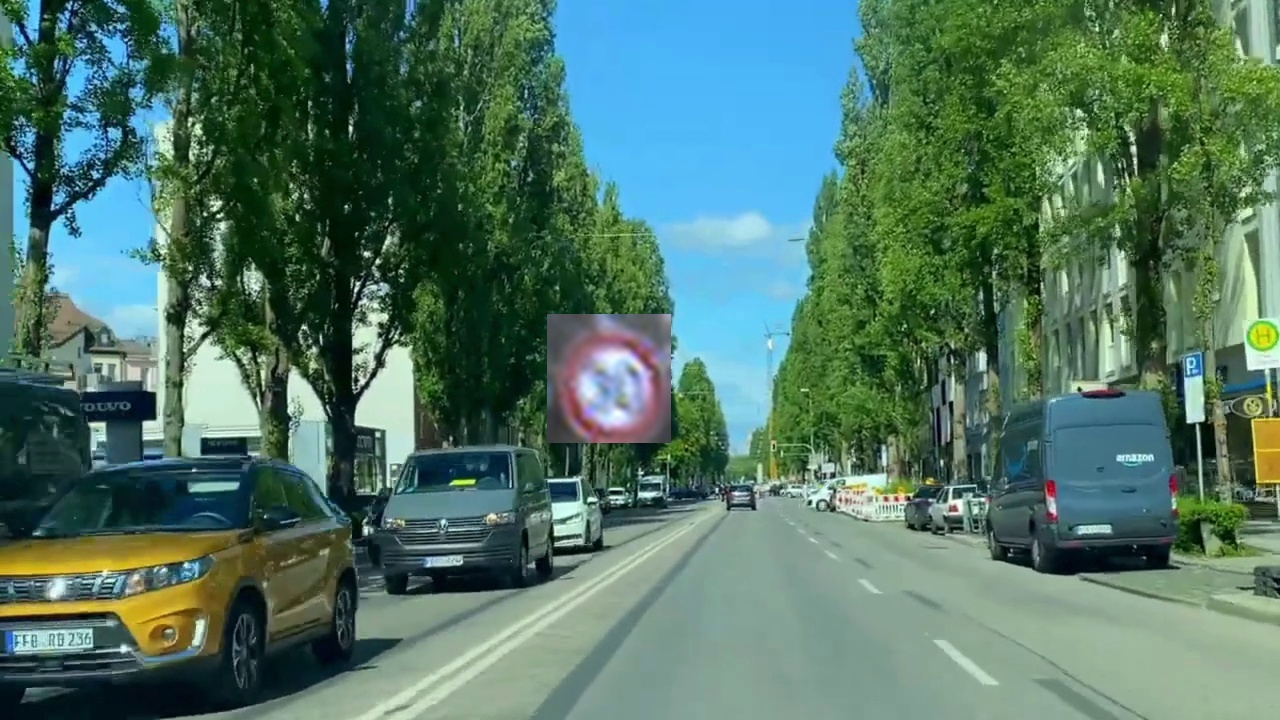Speed 30: (547, 314, 671, 443)
